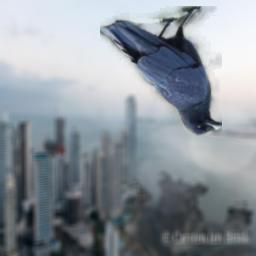Crow: (100, 6, 222, 136)
